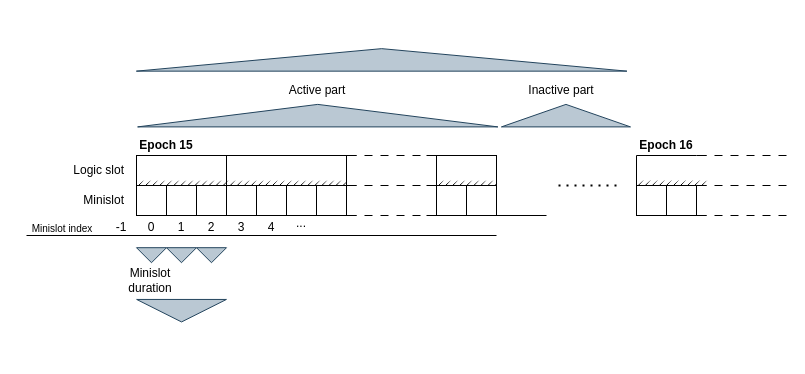
Some shapes in this 805 by 374 pixel diagram are drawn without their labels. Each missing label, with the box of its shape:
Epoch duration: (135, 48, 627, 71)
Slot duration in minislots: (136, 298, 226, 322)
